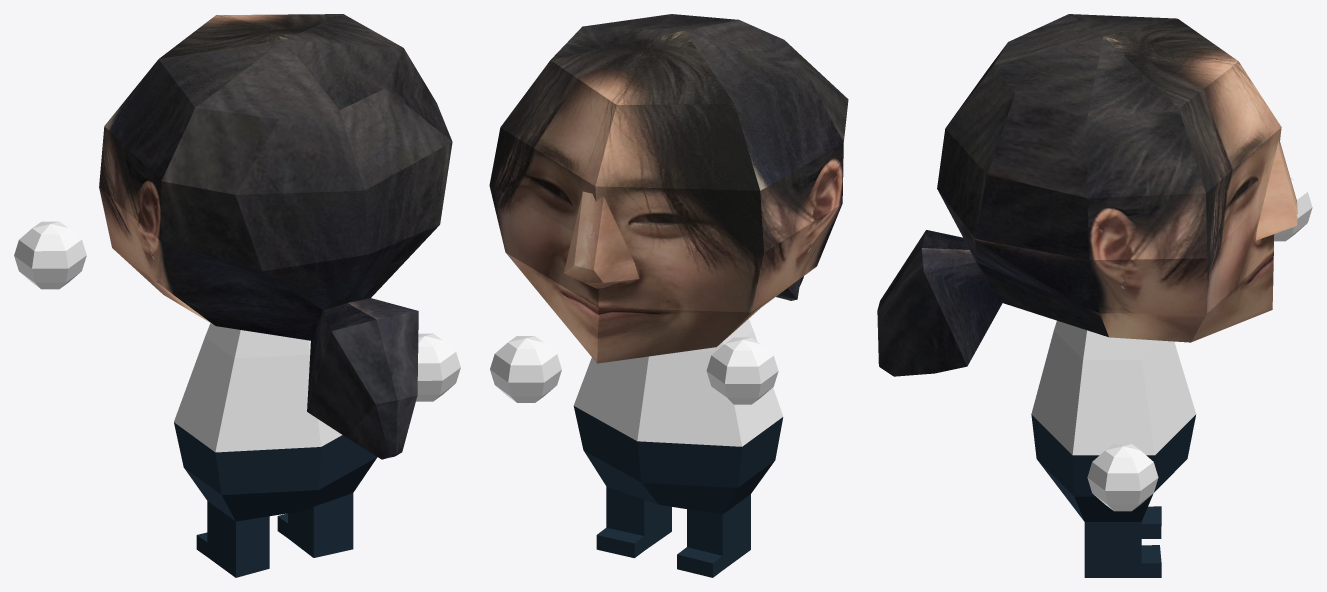
The model's file is mii.glb.
3 views of the same model, side by side, from view 1: azimuth 30°, elevation 25°; view 2: azimuth 150°, elevation 25°; view 3: azimuth 270°, elevation 25° (orthographic).
Visible parts, largest first — view 1: Sphere.001, Sphere, Sphere.003, Sphere.002; view 2: Sphere.001, Sphere, Sphere.003, Sphere.002; view 3: Sphere.001, Sphere, Sphere.002, Sphere.003.
Boxes of the visible parts, <box> form: Sphere.001: <box>99,14,452,459</box>; Sphere: <box>174,323,377,577</box>; Sphere.003: <box>14,221,86,289</box>; Sphere.002: <box>416,333,460,401</box>; Sphere.001: <box>489,14,848,363</box>; Sphere: <box>573,319,783,577</box>; Sphere.003: <box>706,337,778,404</box>; Sphere.002: <box>490,336,561,402</box>; Sphere.001: <box>877,14,1297,376</box>; Sphere: <box>1031,320,1196,577</box>; Sphere.002: <box>1087,444,1158,511</box>; Sphere.003: <box>1274,177,1312,241</box>.
Bounding box in the file's own units: 1.96 × 2.76 × 2.12.
Materials: 7 (3 with a texture image).
